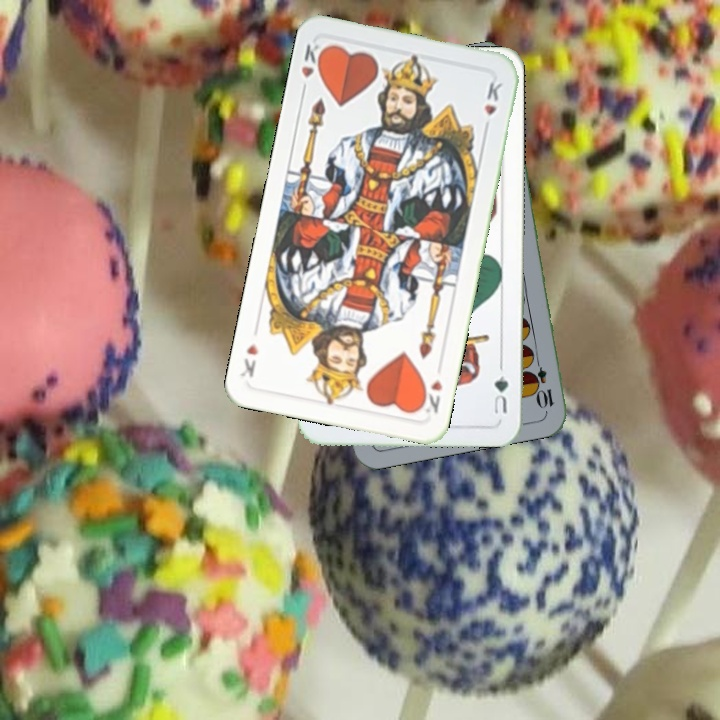E10: (529, 352, 556, 411)
GU: (490, 371, 511, 417)
HK: (297, 39, 328, 97), (416, 376, 445, 419)
